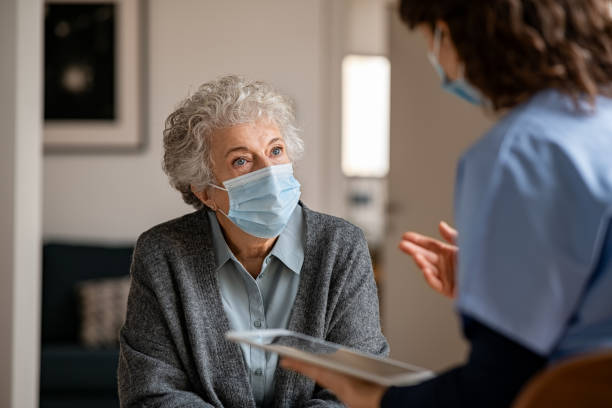with mask: (151, 84, 312, 231), (411, 1, 527, 138)
